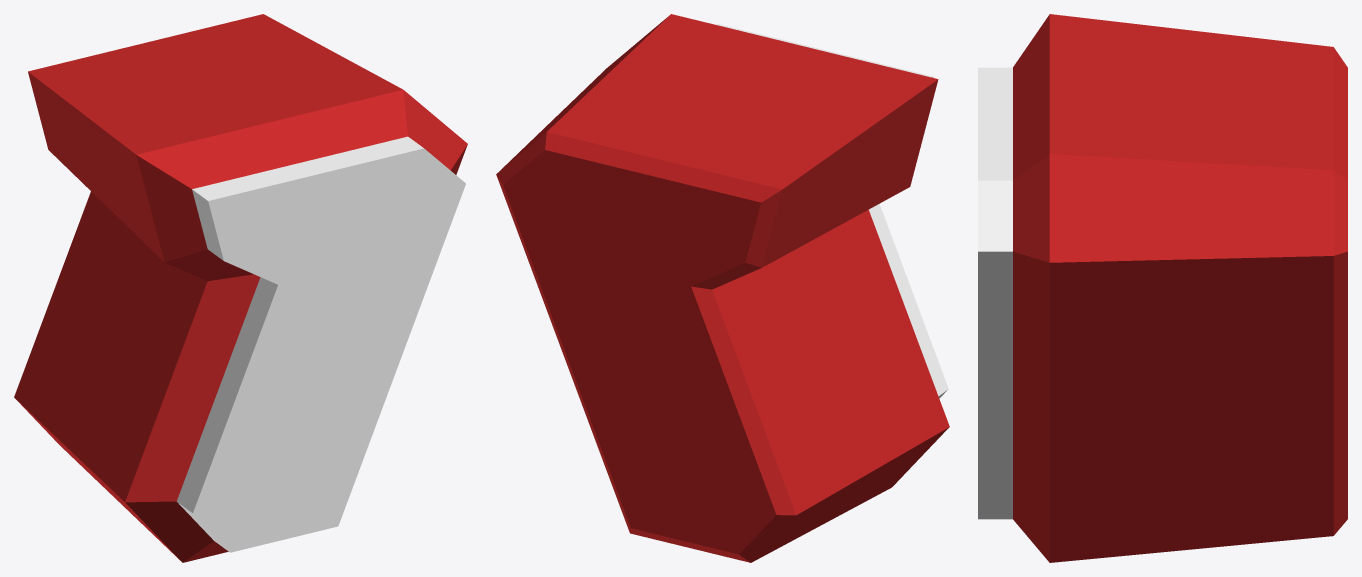
The picture shows the model from 3 angles, left to right: view 1: azimuth 30°, elevation 25°; view 2: azimuth 150°, elevation 25°; view 3: azimuth 270°, elevation 25°; orthographic projection. The views are drawn at different scales.
Parts seen in each view (by area): view 1: MoText_1; view 2: MoText_1; view 3: MoText_1.
Boxes of the visible parts, x1,y1,x2,y2 form: MoText_1: (14,14,467,562); MoText_1: (496,14,949,562); MoText_1: (978,14,1347,562).
Size of the model in its own units: 150 by 175 by 130.
